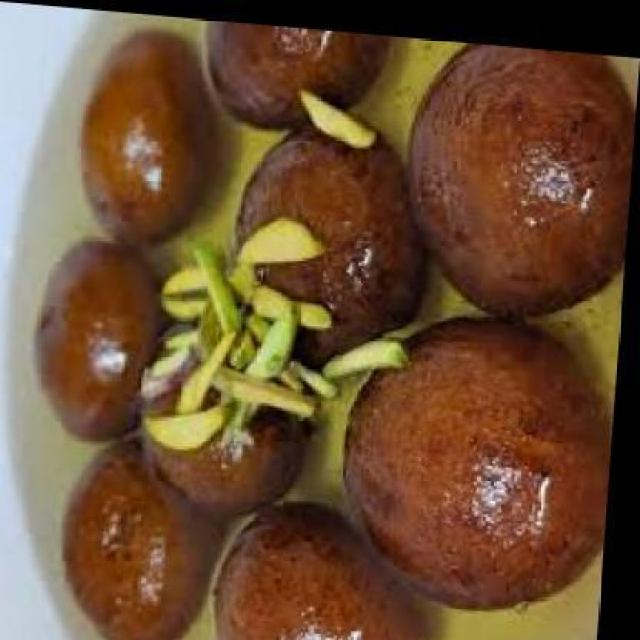gulab_jamun: (340, 297, 625, 611), (400, 29, 640, 314), (232, 111, 440, 371), (65, 429, 237, 640), (218, 487, 447, 640), (74, 23, 228, 243), (143, 323, 317, 517), (34, 231, 183, 443), (198, 14, 390, 134)
